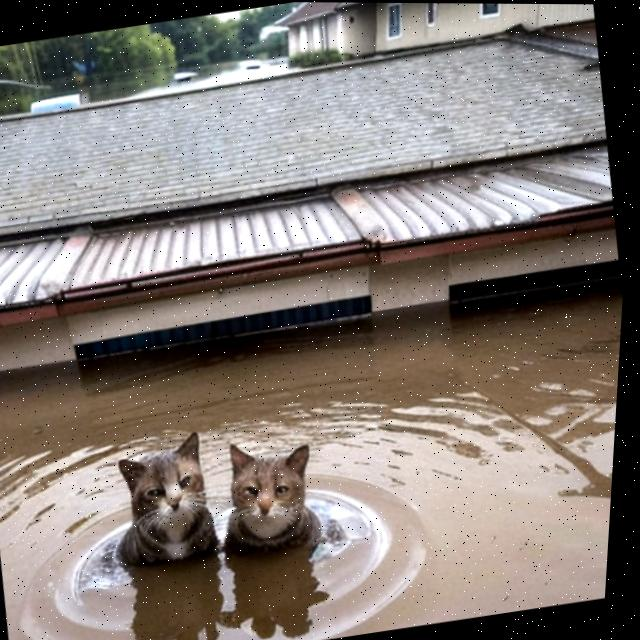cat: (68, 422, 239, 589), (196, 412, 364, 580)
